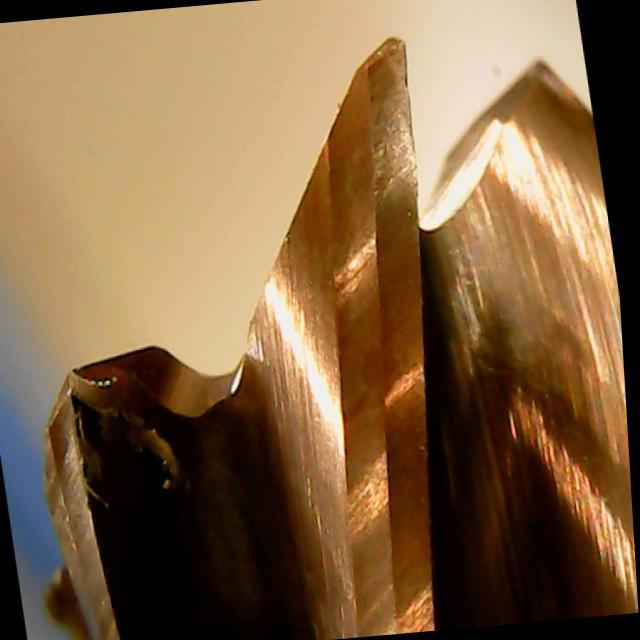Tool-wear-class-1: (292, 24, 457, 276)
